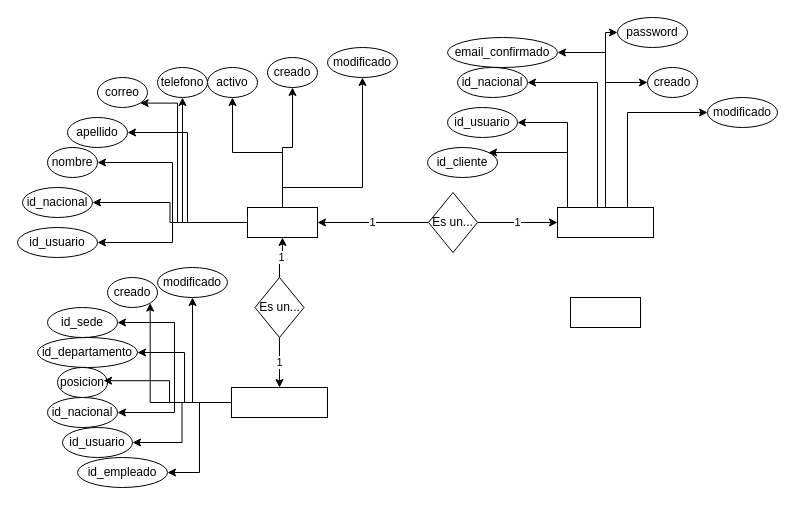
Some shapes in this 795 by 505 pixel diagram are drawn without their labels. Each missing label, with the centre of its shape:
"CLIENTE" belongs at point (605, 222).
"DIRECCION" belongs at point (605, 312).
"EMPLEADO" belongs at point (279, 402).
"USUARIO" belongs at point (282, 222).
